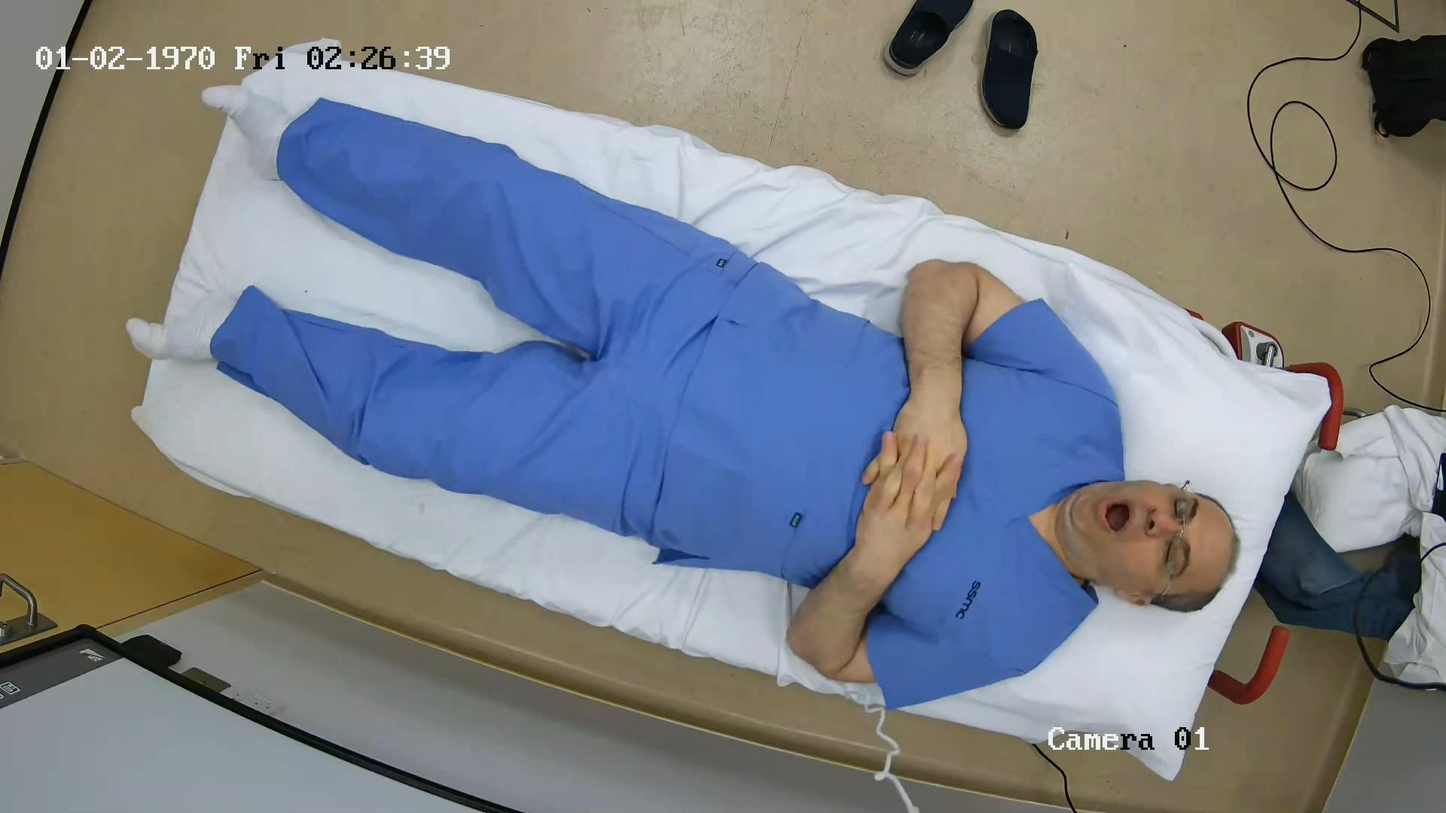patient: (209, 99, 1237, 707)
